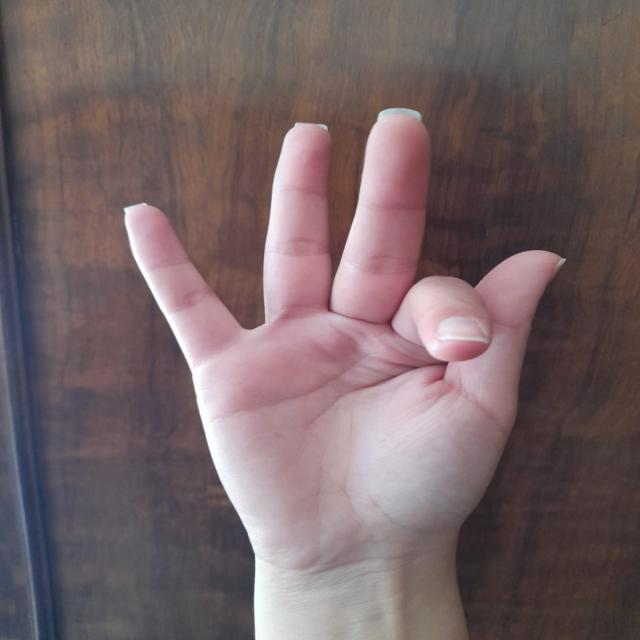F: (101, 96, 587, 608)
